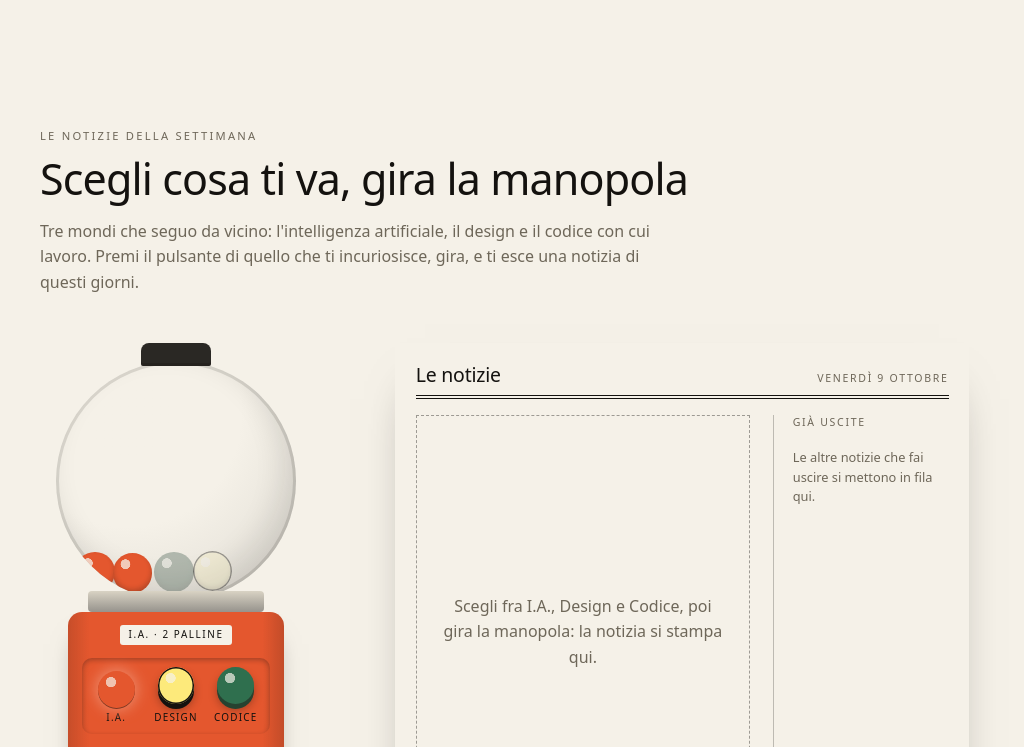
le notizie: il giro › una release dice che e' uscita, nella lingua della pagina
This screenshot has width=1024, height=747.
Click the button "Codice": point(236, 696) [209, 666, 262, 727]
(page scrolled)
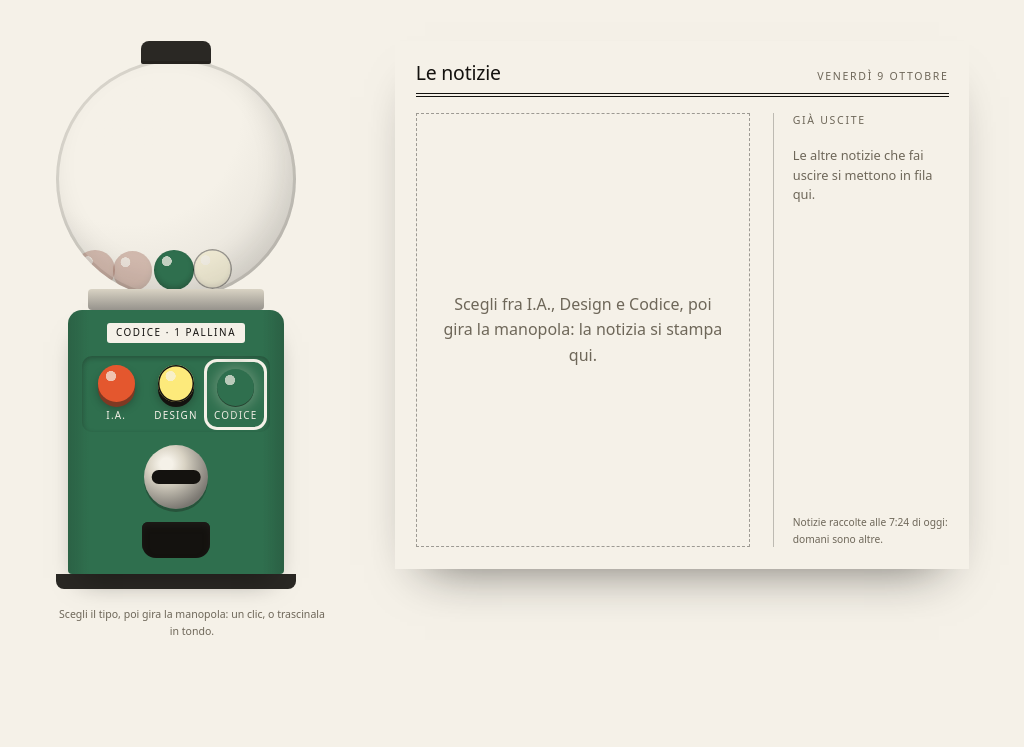
Click the button named "Gira la manopola: esce una notizia": point(176, 477) [144, 445, 208, 509]
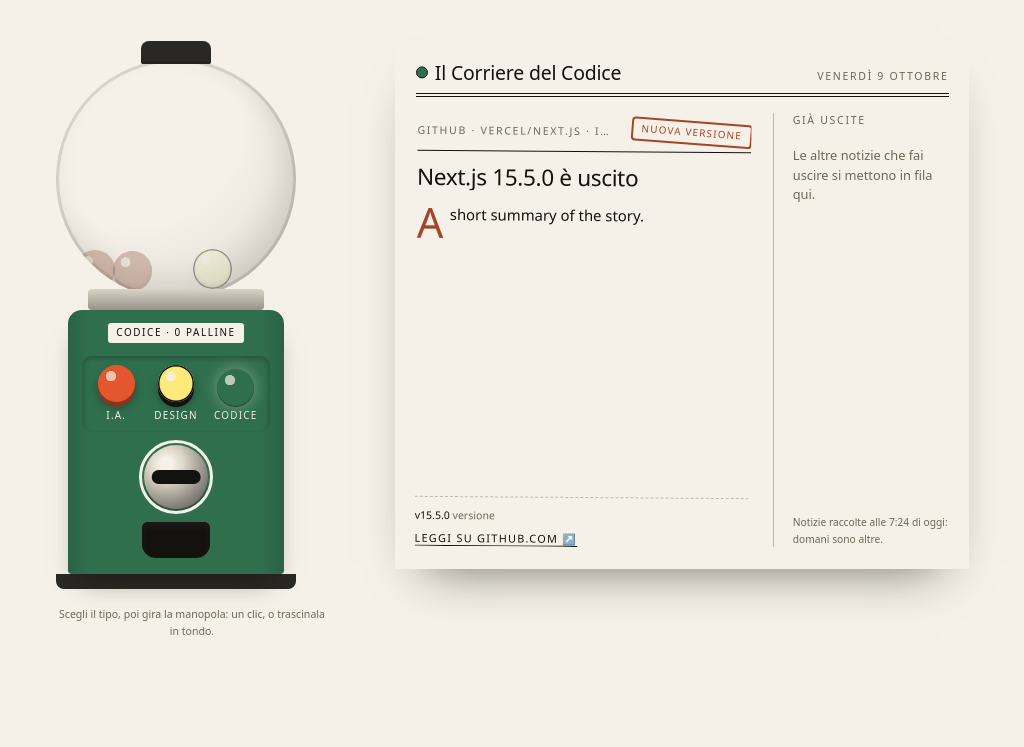
Expected: the element showing "Il Corriere del Codice" is shown, [416, 61, 621, 85]
Expected: the heading reads "Next.js 15.5.0 è uscito", [417, 161, 638, 194]
Expected: the element that starts with "GitHub · vercel/next.js" is shown, [417, 123, 581, 138]
